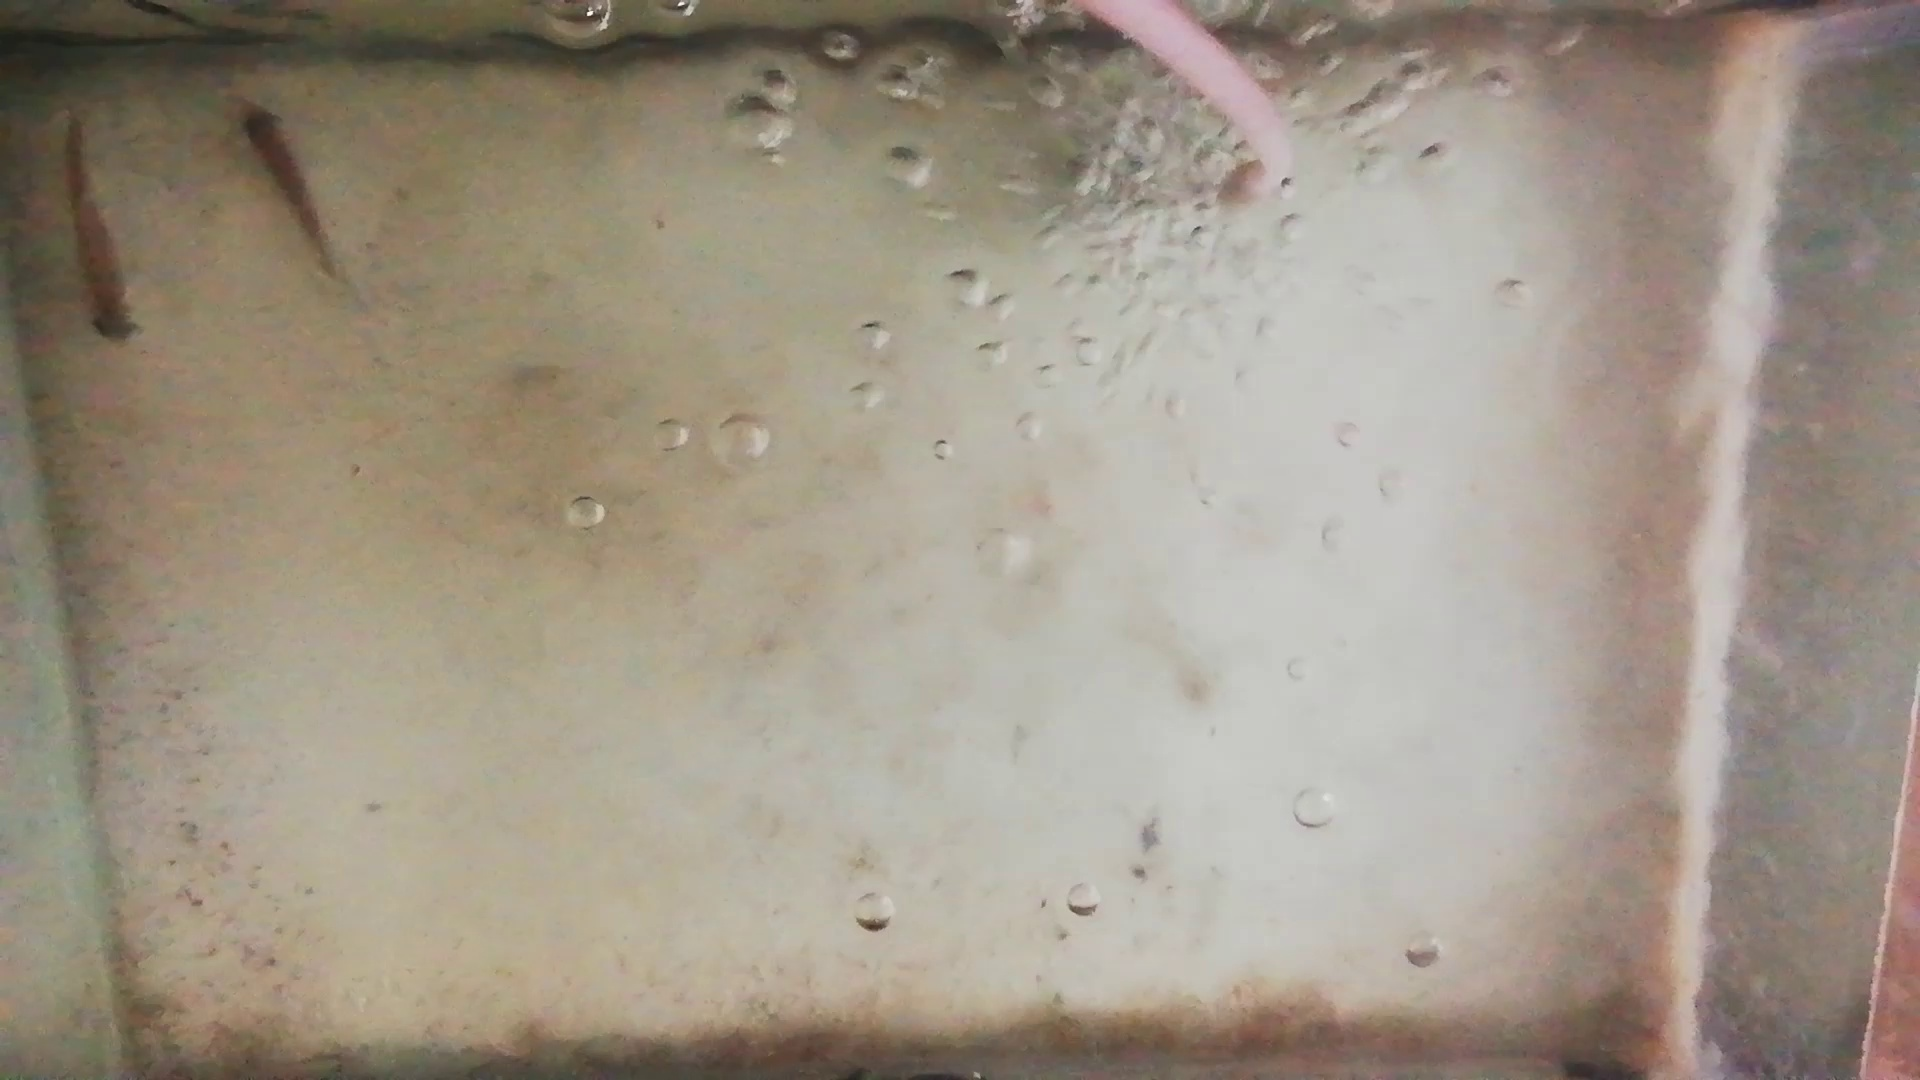fish: (55, 112, 140, 345), (240, 94, 334, 274)
